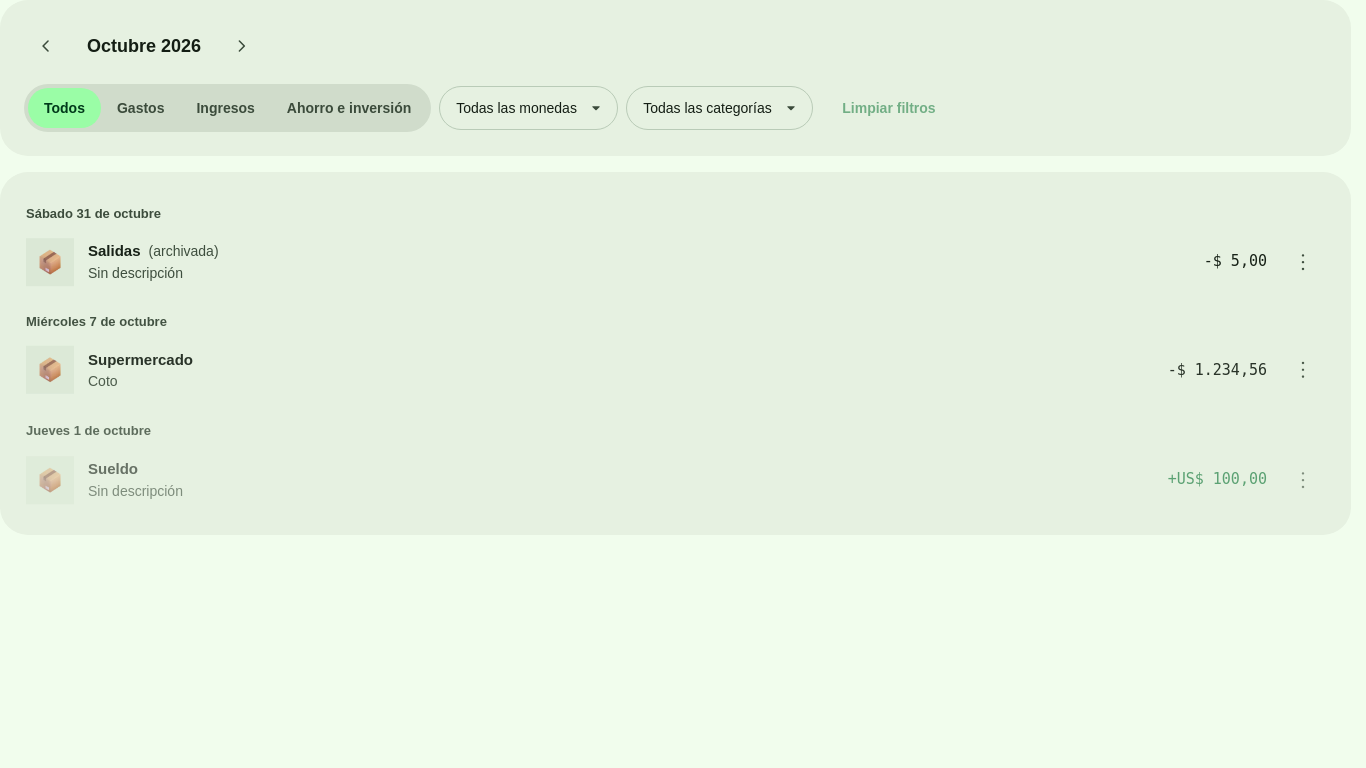
Scenario: MovementsPage › edit › opens the dialog with the movement data
Click the button named "Acciones del movimiento de Supermercado del 07/10/2026" at [1303, 370], box [1281,348,1325,392]
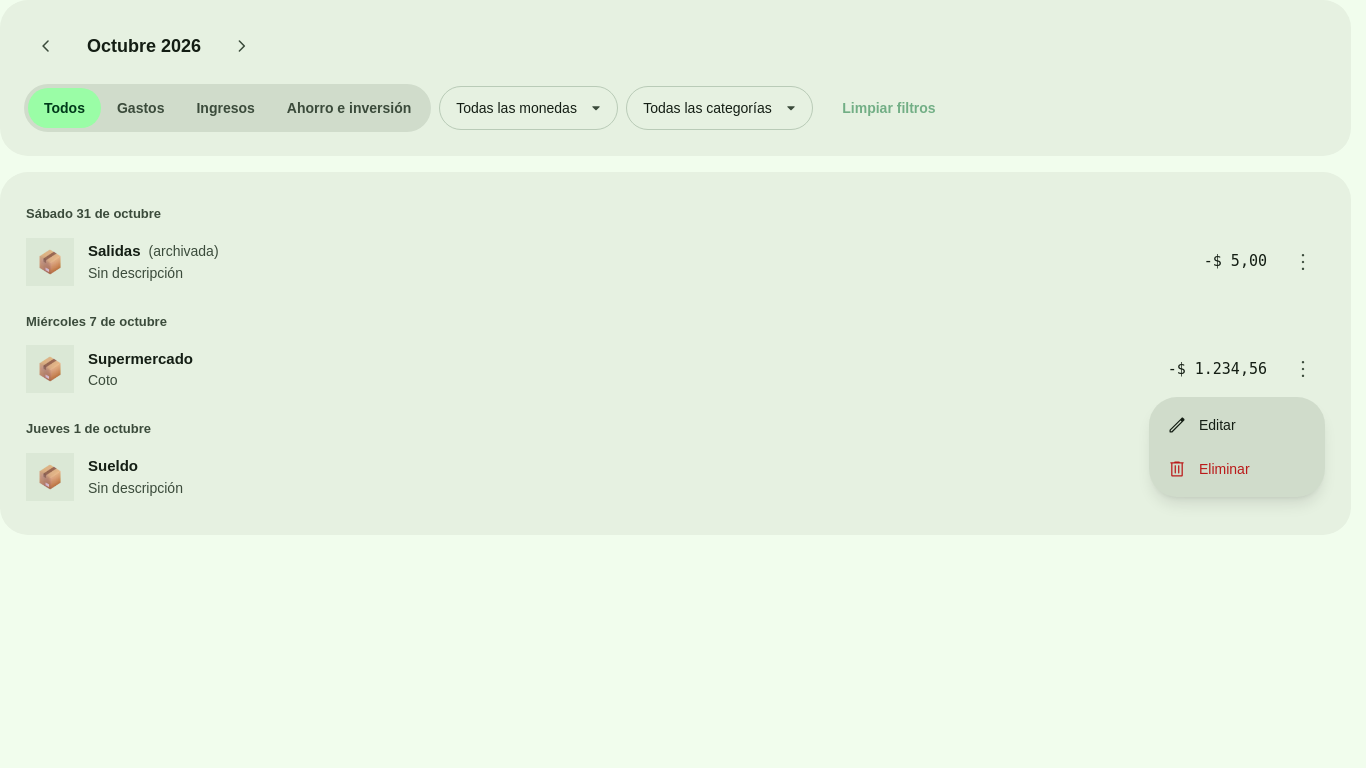
Click the menu item "Editar" at [1201, 425], box [1167,415,1236,435]
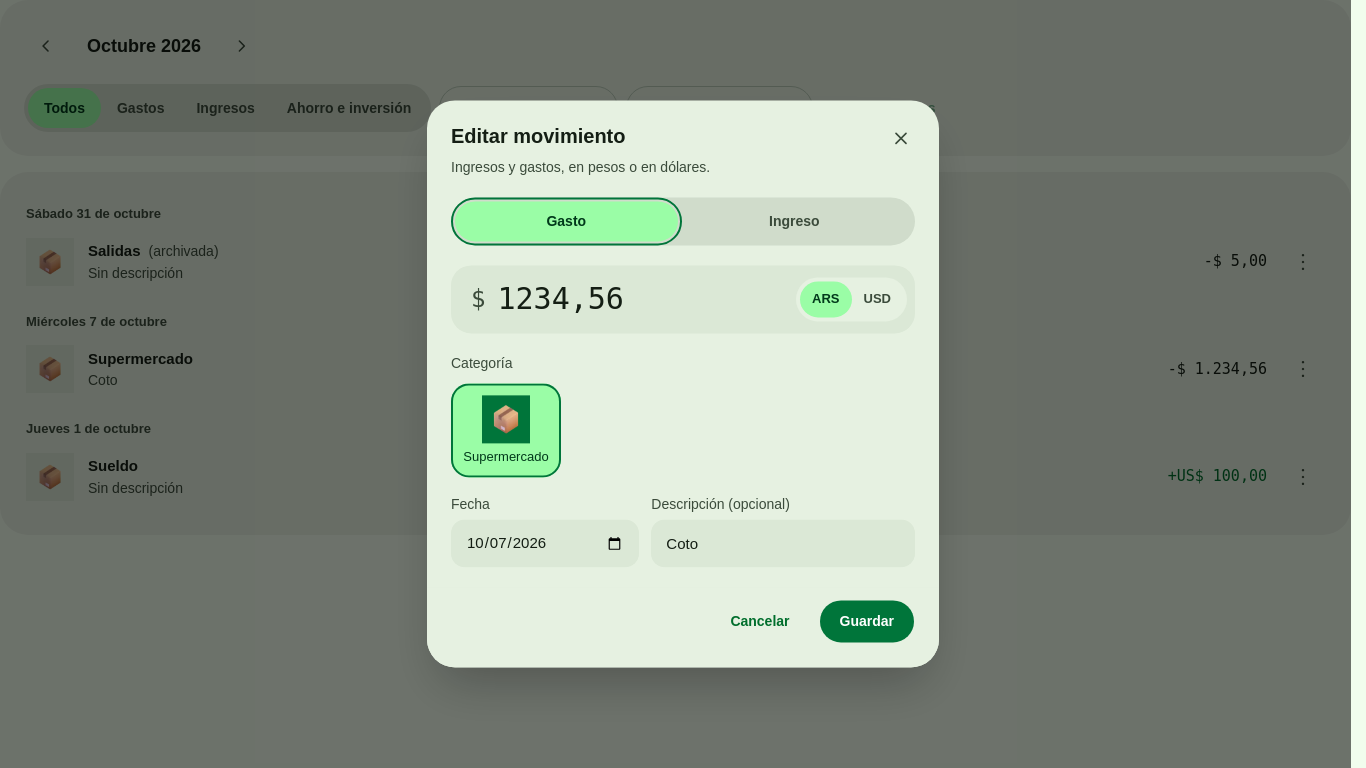
Result: the radio button labelled "Gasto" is checked at [455,201,678,241]
Result: the field named "Monto" holds "1234,56" at [498,273,784,325]
Result: the radio button labelled "ARS" is checked at [800,281,852,317]
